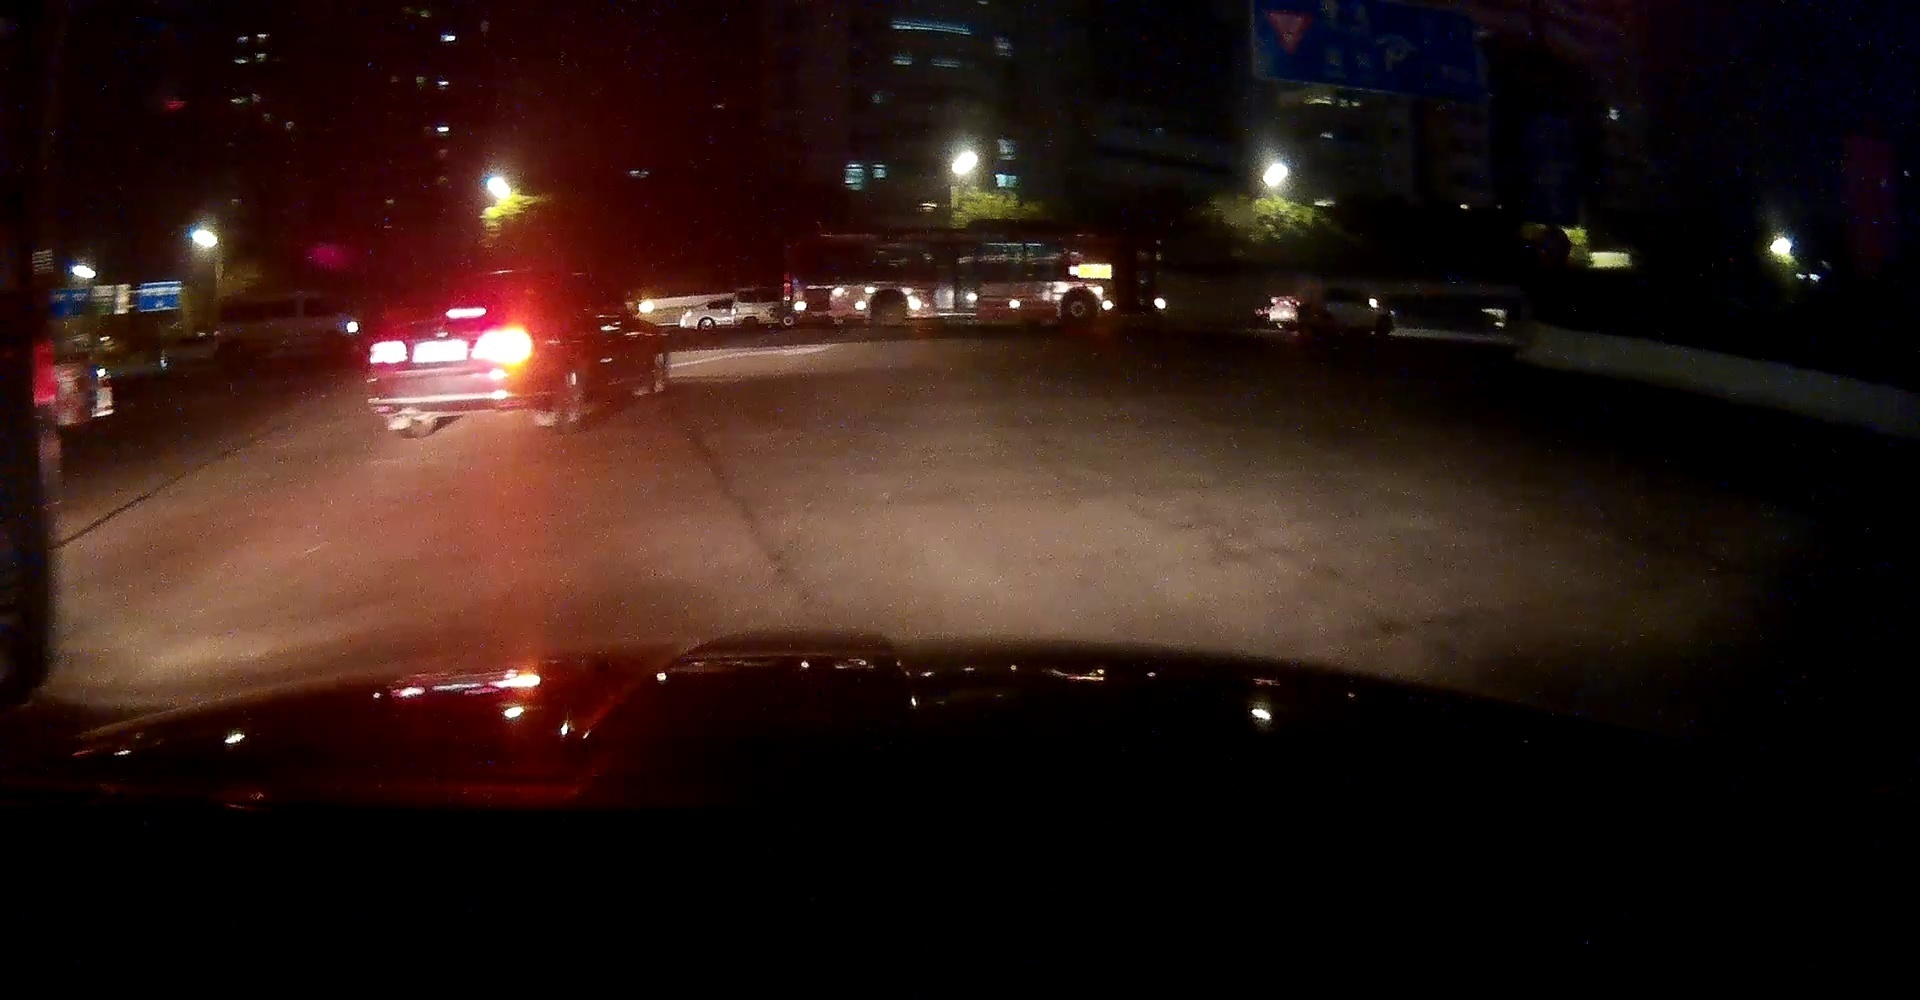L_light: (370, 339, 408, 364)
R_light: (470, 331, 532, 359)
T_light: (443, 306, 488, 319)
night-right: (364, 270, 538, 439)
